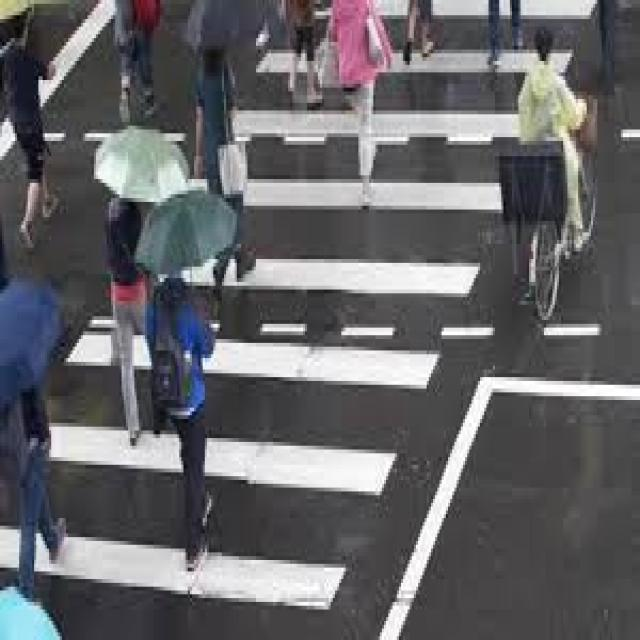Pedestrians: (145, 263, 220, 571), (192, 42, 262, 286), (2, 8, 64, 252), (328, 4, 391, 213)
